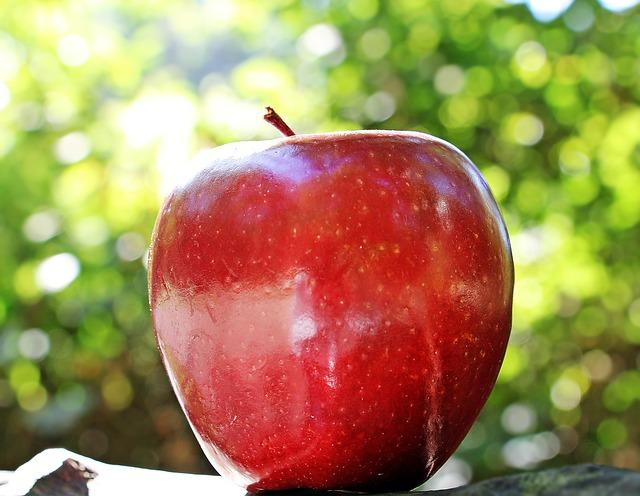non-mango: (146, 115, 515, 493)
